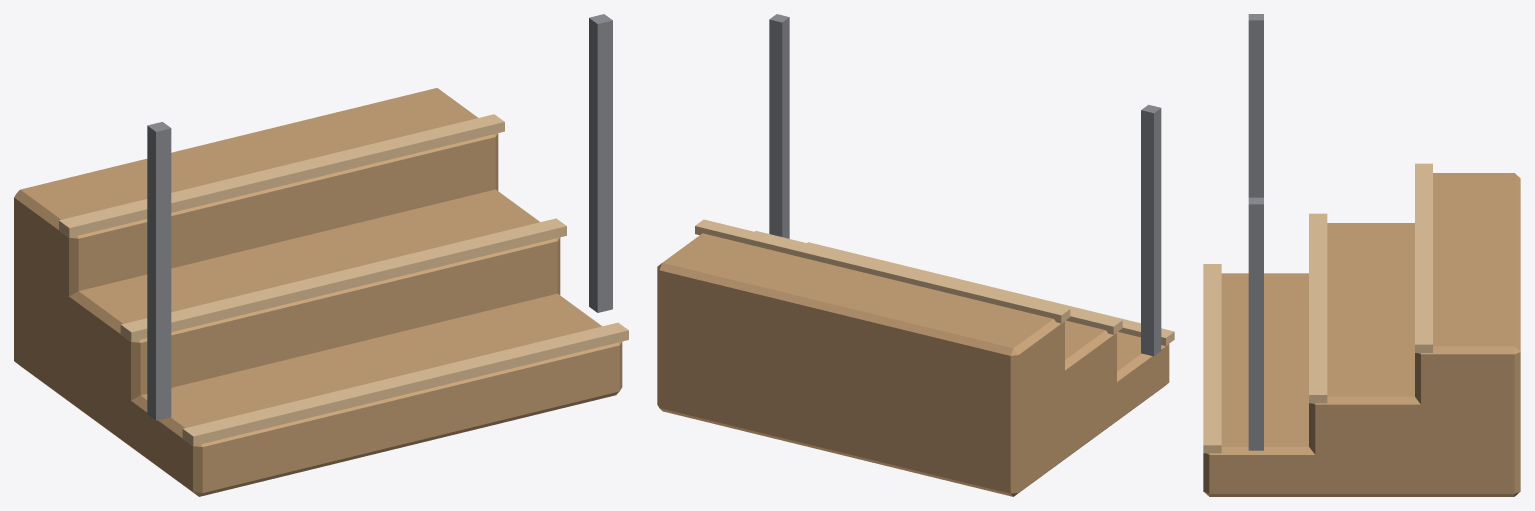
The model's file is prop_stage_steps_01.glb.
3 renders of one model, left to right at view 1: azimuth 30°, elevation 25°; view 2: azimuth 150°, elevation 25°; view 3: azimuth 270°, elevation 25°, orthographic. The views are drawn at different scales.
Parts seen in each view (by area): view 1: prop_stage_steps_01_body; view 2: prop_stage_steps_01_body; view 3: prop_stage_steps_01_body.
Part boxes in pixels (x1=…): prop_stage_steps_01_body: x1=14, y1=14, x2=628, y2=496; prop_stage_steps_01_body: x1=657, y1=14, x2=1174, y2=496; prop_stage_steps_01_body: x1=1203, y1=14, x2=1520, y2=496.
Bounding box in the file's own units: 1.49 × 1.1 × 1.05.
